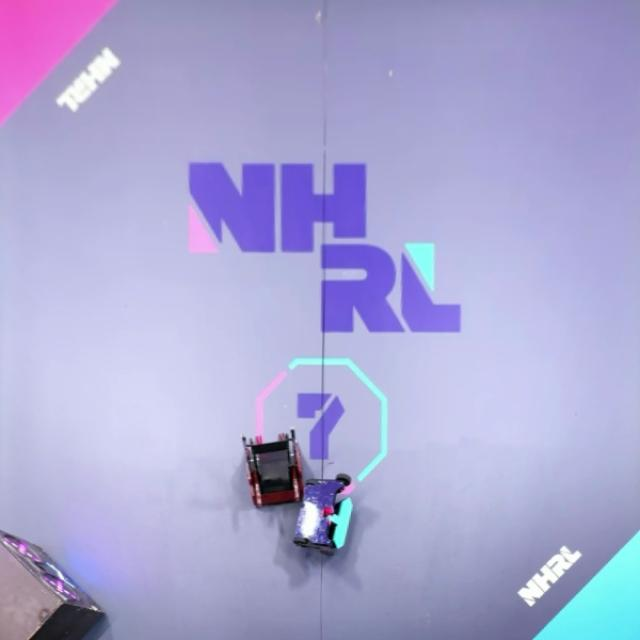housebot: (0, 528, 106, 640)
robot: (292, 474, 355, 558), (241, 428, 303, 508)
